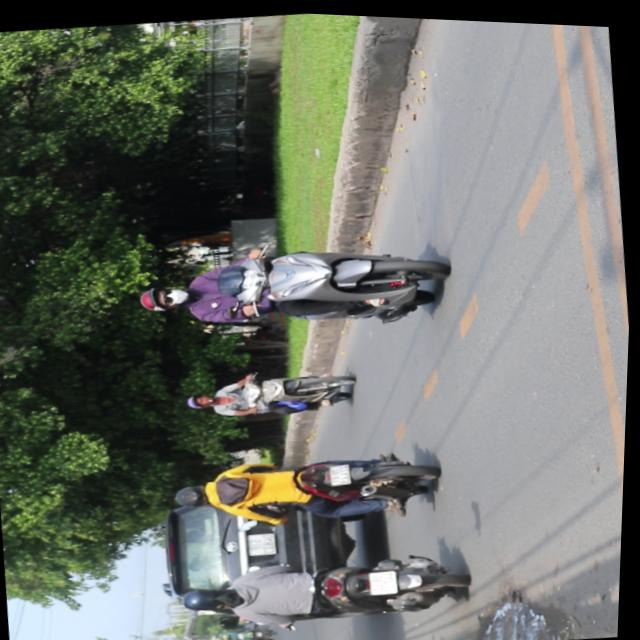helmet: (138, 279, 195, 313), (181, 580, 237, 614), (173, 478, 214, 507), (187, 389, 218, 408)
licenseplate: (130, 219, 454, 348), (176, 533, 475, 640), (168, 432, 443, 538), (183, 357, 359, 427)
nohelmet: (370, 566, 401, 593), (329, 459, 353, 482)
